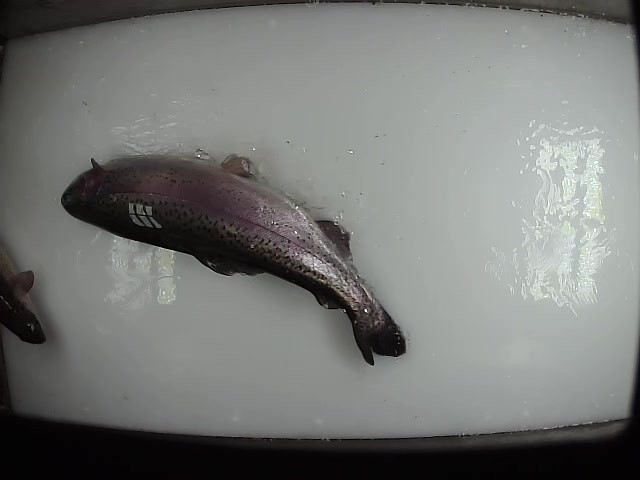Fish: (60, 152, 407, 366)
